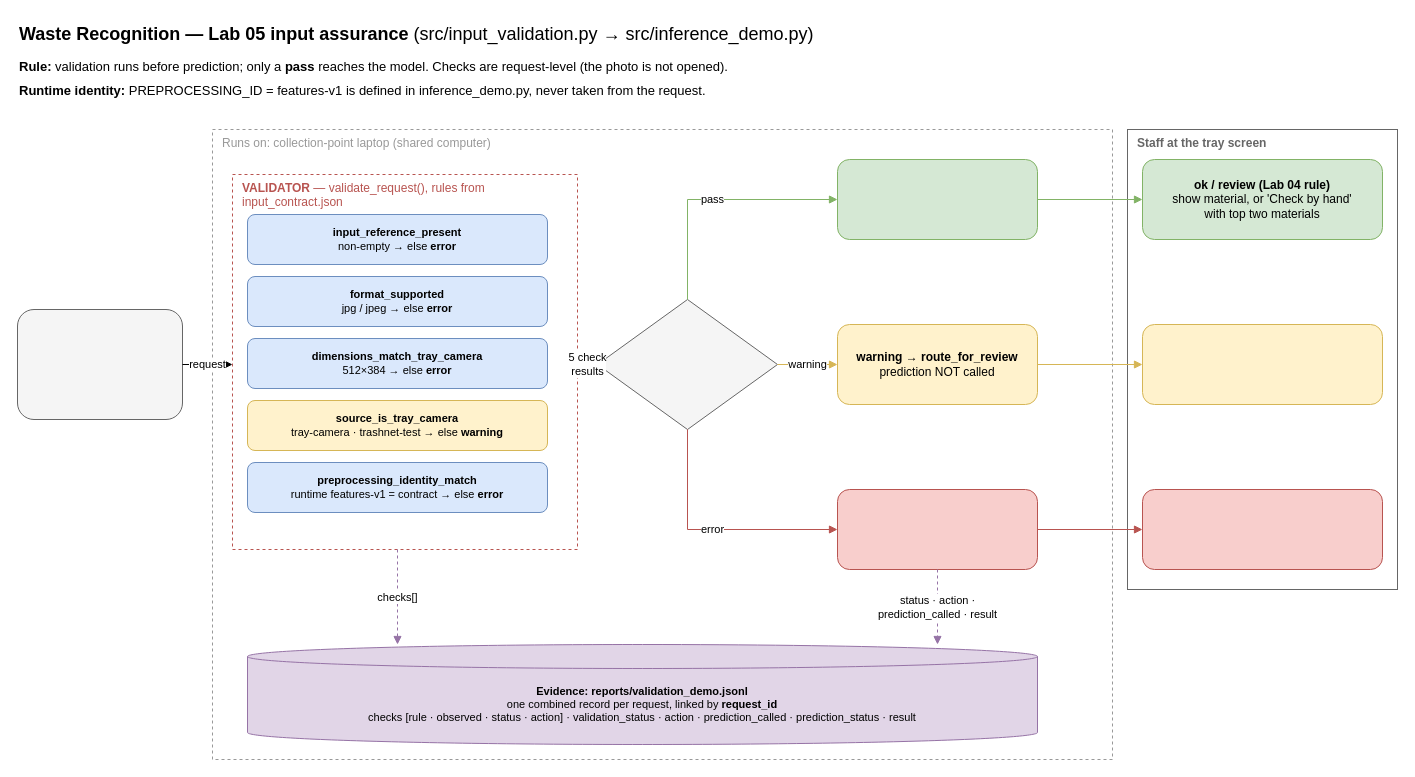
This 1415x777 diagram has some shape labels left out. The shapes that lost their labels are listed below. From the top down, each one's centre as x and y in pixels, then its label:
(937,199): pass → call_prediction project_predict() baseline-v1 + decision-v1
(99,364): Request input_ref · format · width · height · source from tray camera or phone
(687,364): Combine most severe wins error > warning > pass
(1262,364): Check by hand photo not from the tray camera; staff decide the container
(937,529): error → reject_input prediction NOT called
(1262,529): Rejected show the failed rule; staff retake with the tray camera
